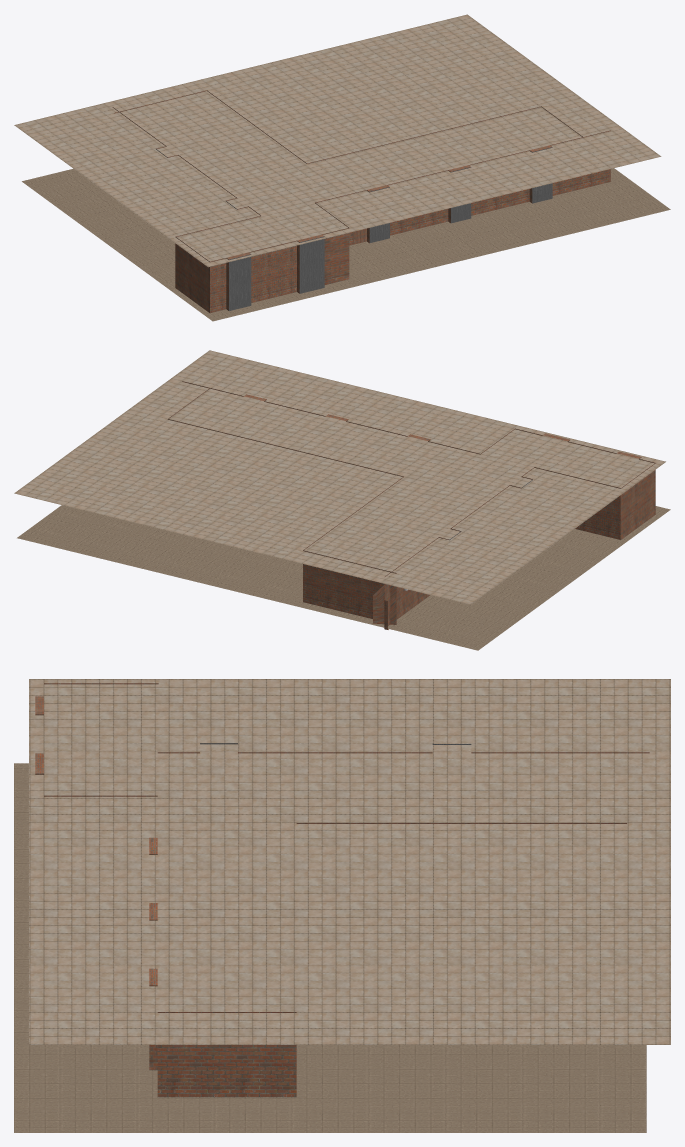
The model's file is pasillo_version8.fbx.
The picture shows the model from 3 angles, top to bottom: view 1: azimuth 30°, elevation 25°; view 2: azimuth 150°, elevation 25°; view 3: azimuth 270°, elevation 25°; orthographic projection. The views are drawn at different scales.
Visible parts, largest first — view 1: Techo, Piso, Paredes; view 2: Techo, Piso, Paredes; view 3: Techo, Piso, Paredes.
Boxes of the visible parts, bbox=[...] form: Techo: bbox=[14, 14, 661, 267]; Piso: bbox=[22, 168, 670, 321]; Paredes: bbox=[112, 90, 610, 313]; Techo: bbox=[14, 350, 665, 604]; Piso: bbox=[17, 505, 670, 650]; Paredes: bbox=[167, 381, 655, 629]; Techo: bbox=[29, 679, 670, 1044]; Piso: bbox=[14, 763, 646, 1132]; Paredes: bbox=[35, 683, 649, 1097].
Size of the model in its own units: 5099 by 554 by 3830.
Materials: 4 (4 with a texture image).
